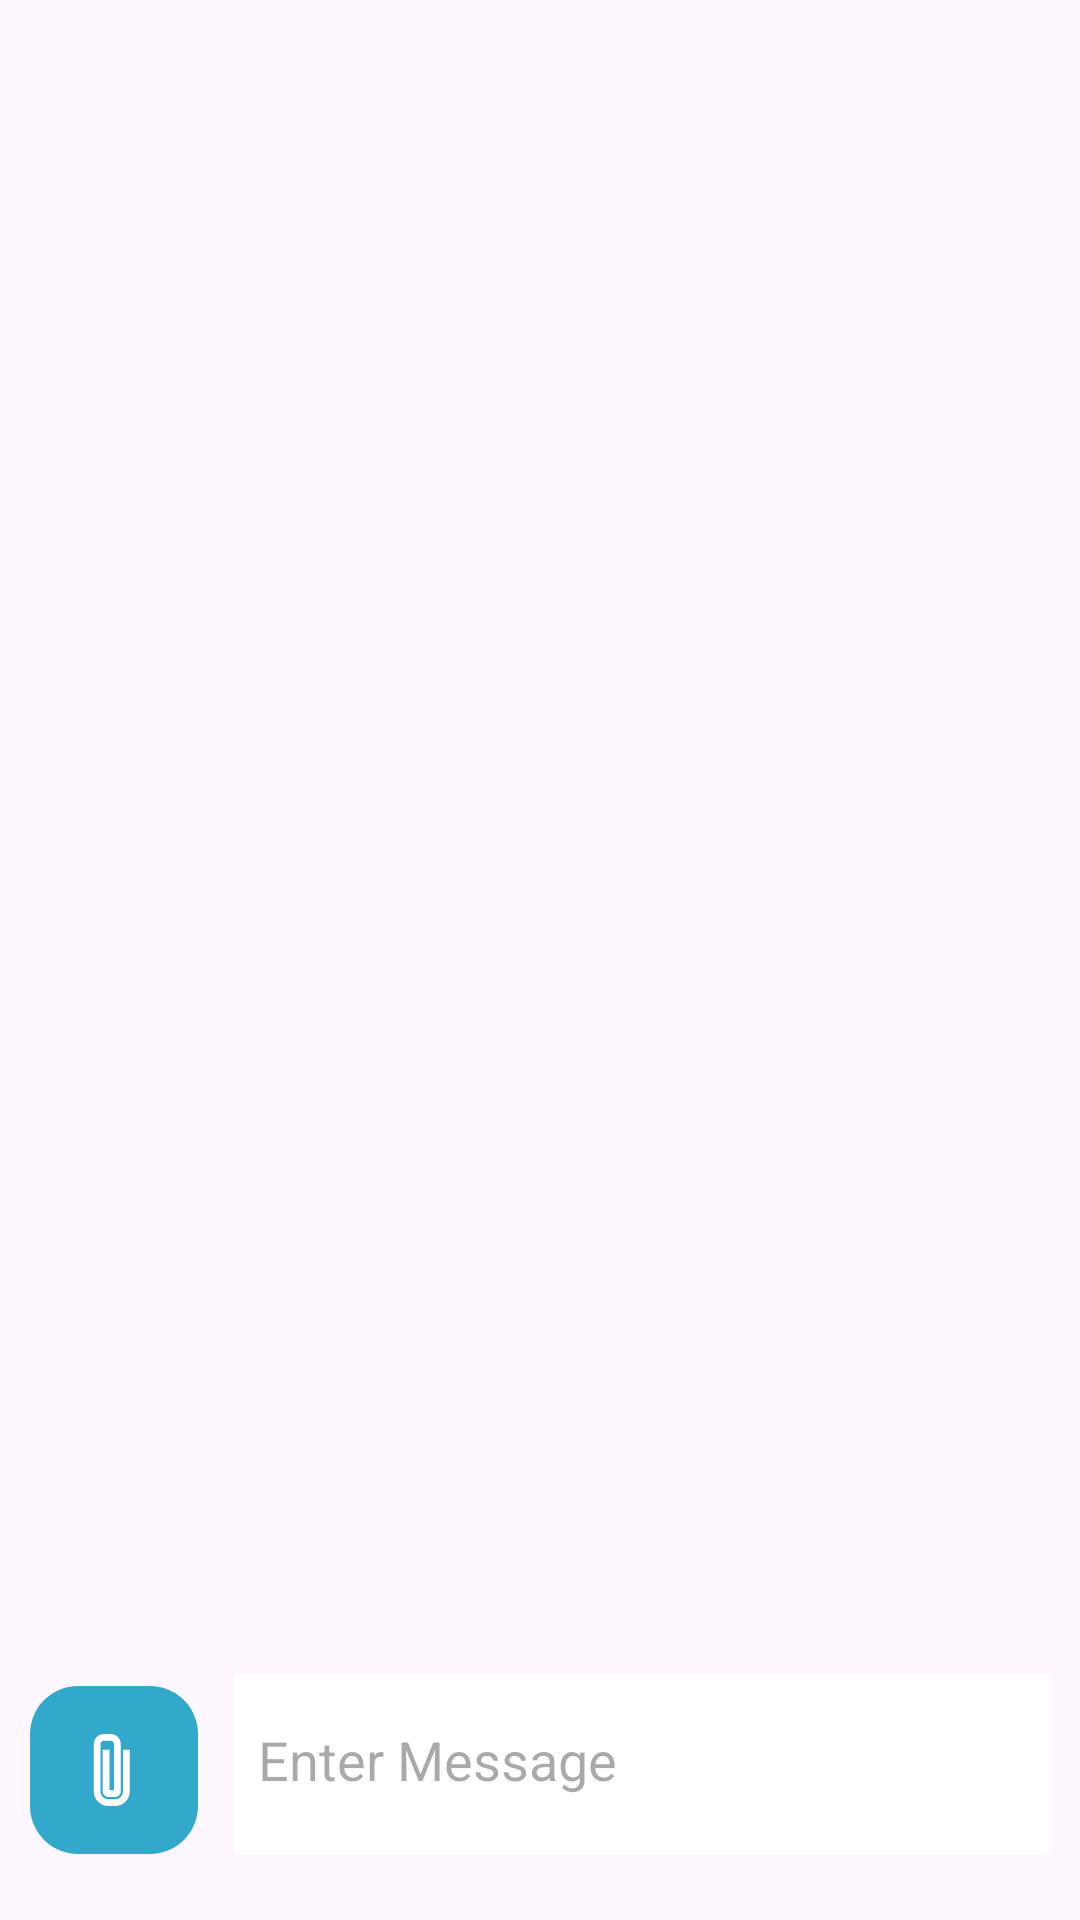

Locate icon controls on the screen. Image size 1080 x 1920, boxes as (x1, y1, x2, y2).
clip: (30, 1686, 198, 1854)
